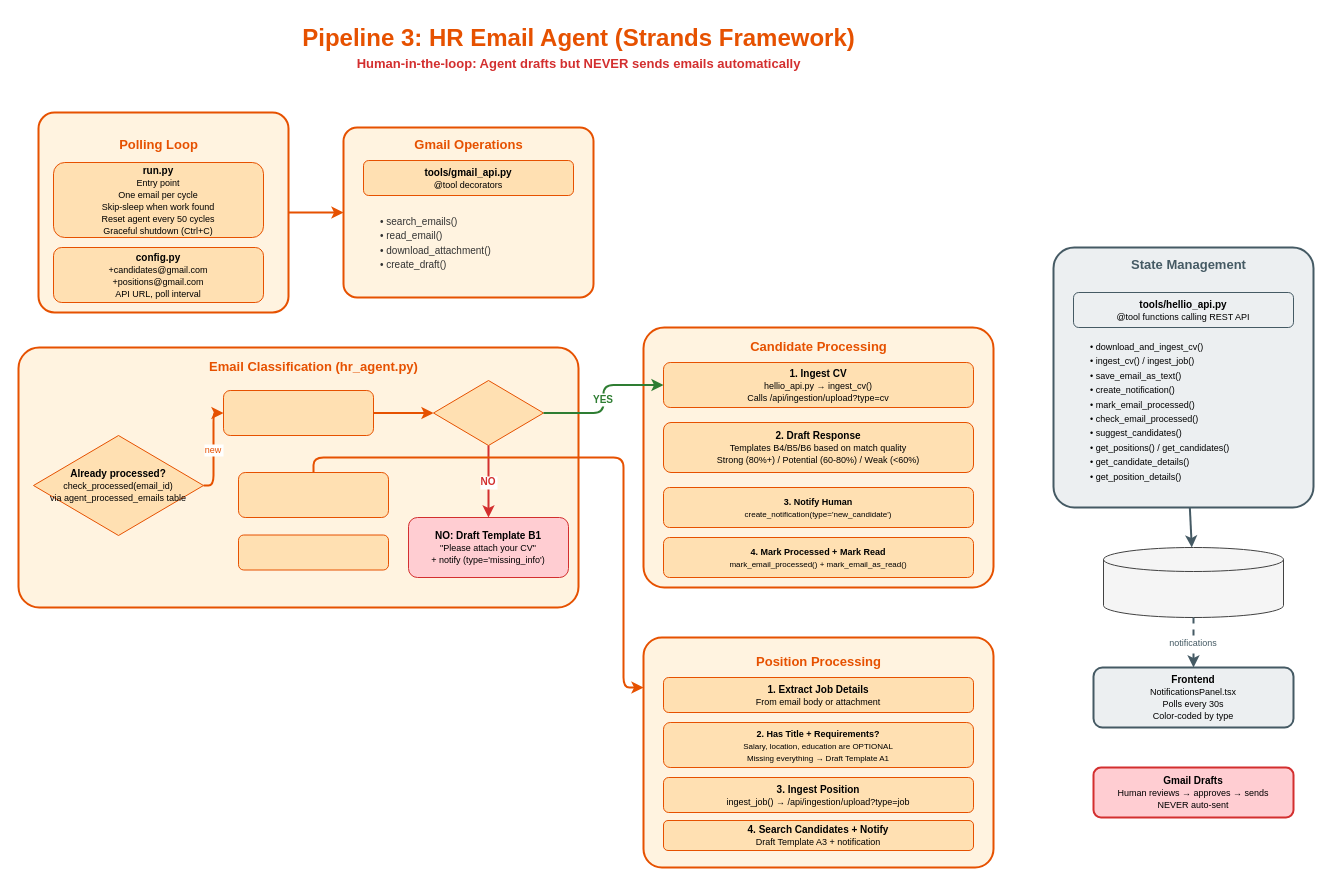
Some shapes in this 1331 by 885 pixel diagram are drawn without their labels. The centre of each missing label's shape, as x and y in pixels:
"Has CV attachment?" belongs at point 488,413.
"Other General inquiry / skip" belongs at point 313,552.
"PostgreSQL agent_processed_emails agent_notifications" belongs at point 1193,582.
"To: +candidates@ Candidate application" belongs at point 298,413.
"To: +positions@ Job posting" belongs at point 313,495.
